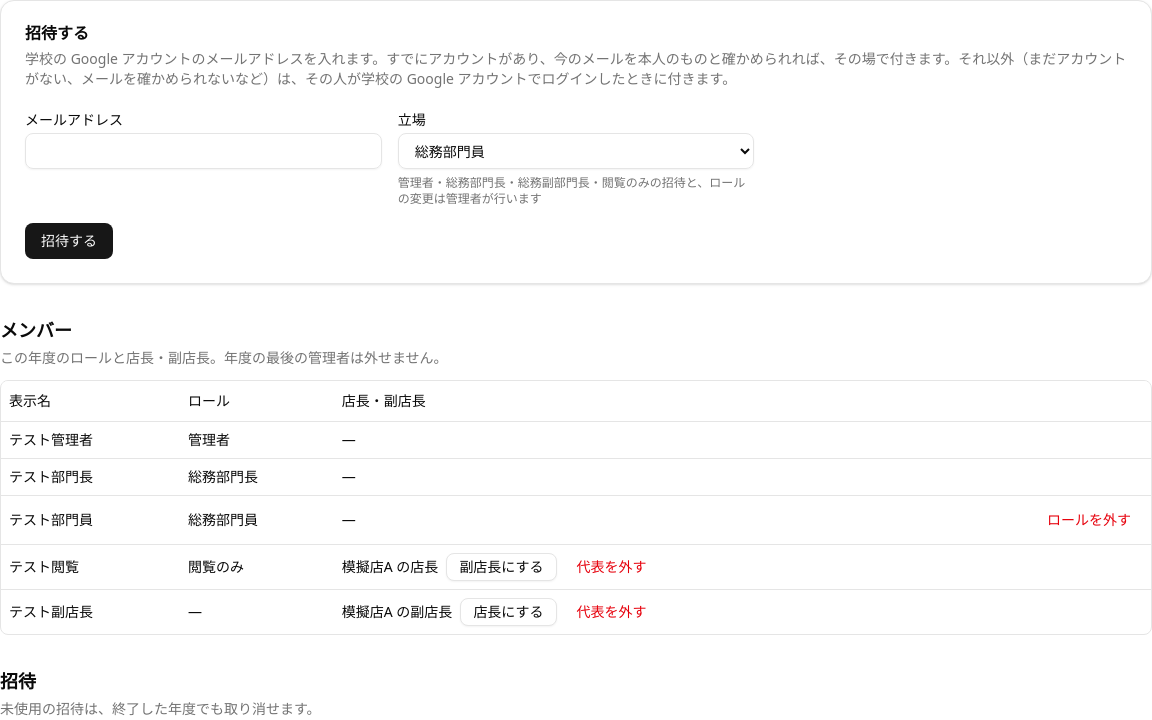
Test case: 招待の立場（段ごと。D-50） › 店長・副店長を選ぶと団体の欄が出て、送るのは団体と立場（ロールは送らない）。送った後も同じ立場と団体を残す
Expected: the form with test id "invite-form" is shown, 25,110 -> 754,259
Expected: the dropdown labelled "団体" is not shown
Select "副店長" in the dropdown labelled "立場" at {"x": 576, "y": 151}, box 398,133 -> 754,169
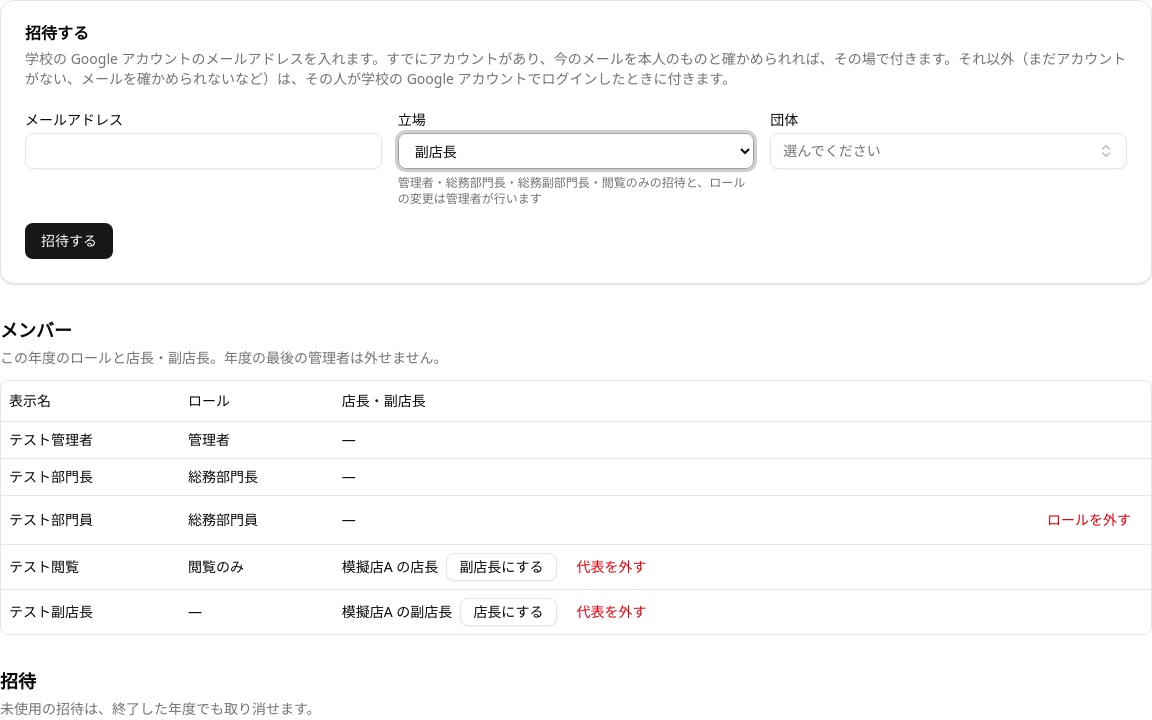
Click the dropdown named "団体".
click(832, 150)  # box 770,133 -> 1127,169
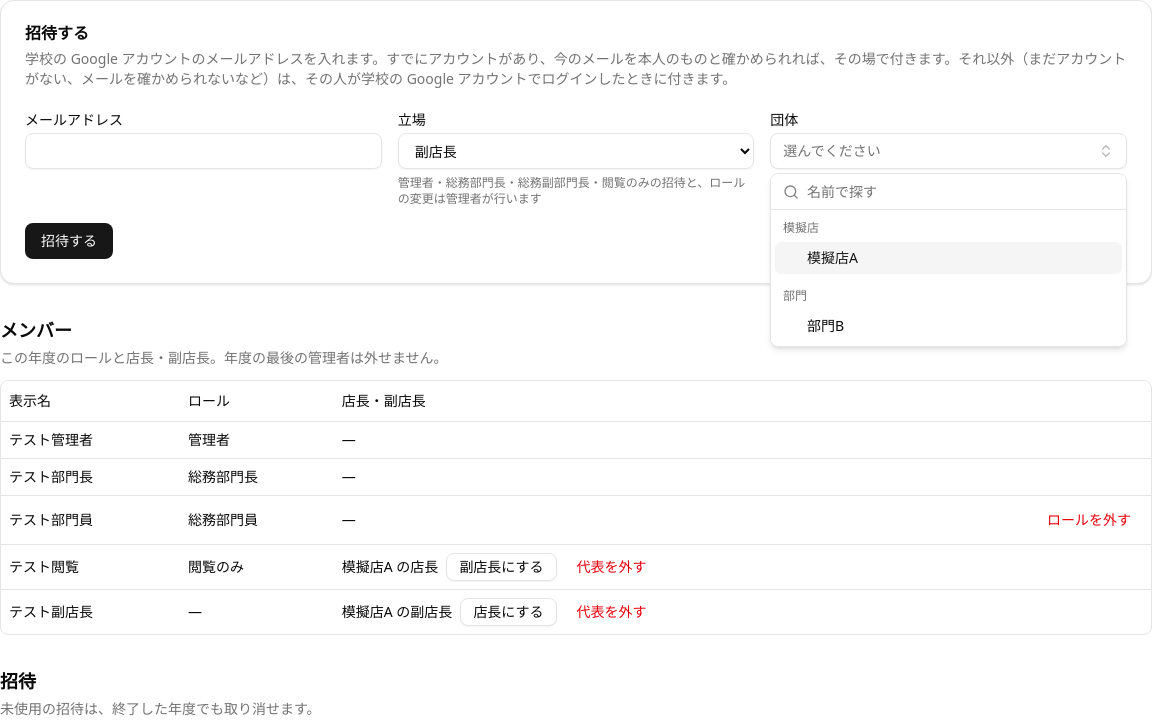
Click the option "模擬店A".
click(832, 258)  # box 775,242 -> 1122,274
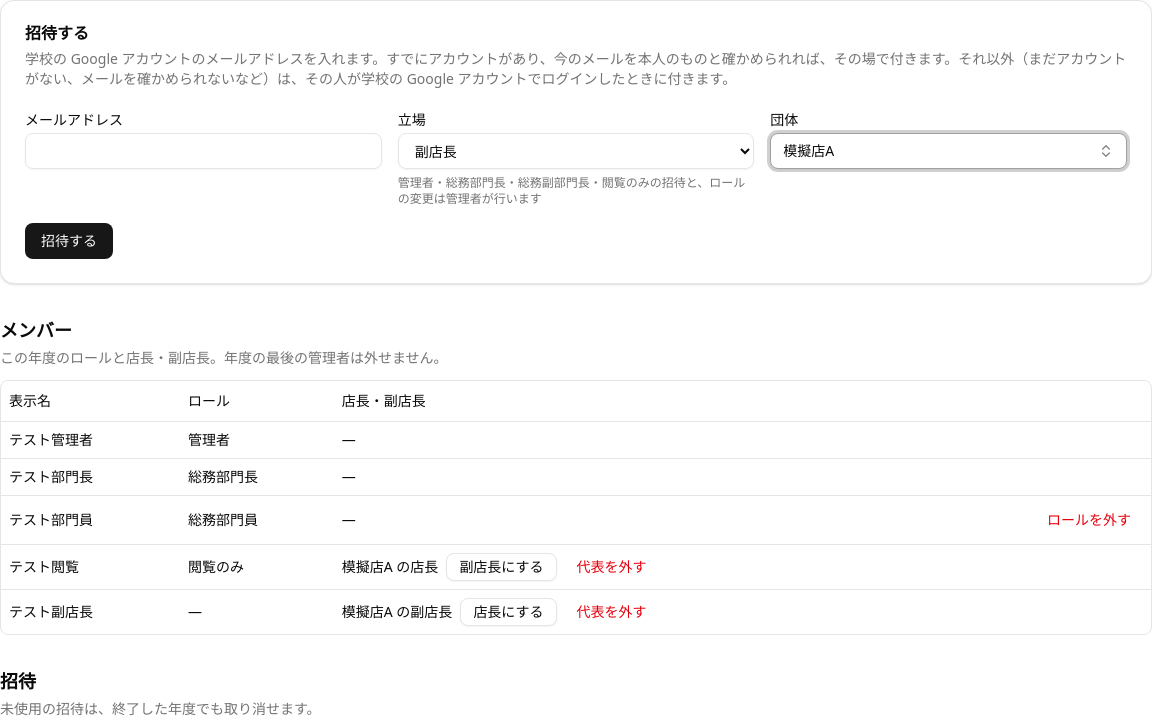
Type " New-Rep@Example.Test " into the field labelled "メールアドレス".
click(203, 151); type(" New-Rep@Example.Test ")  # box 25,133 -> 382,169
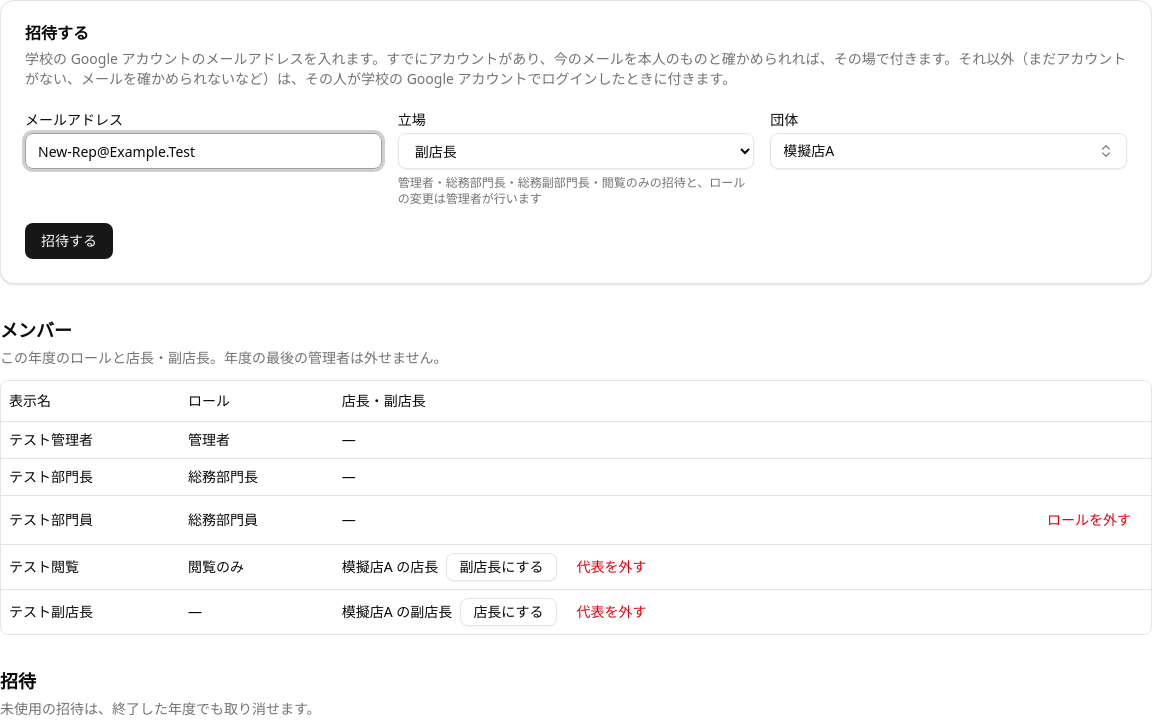
Click the button "招待する".
click(69, 241)  # box 25,223 -> 113,259
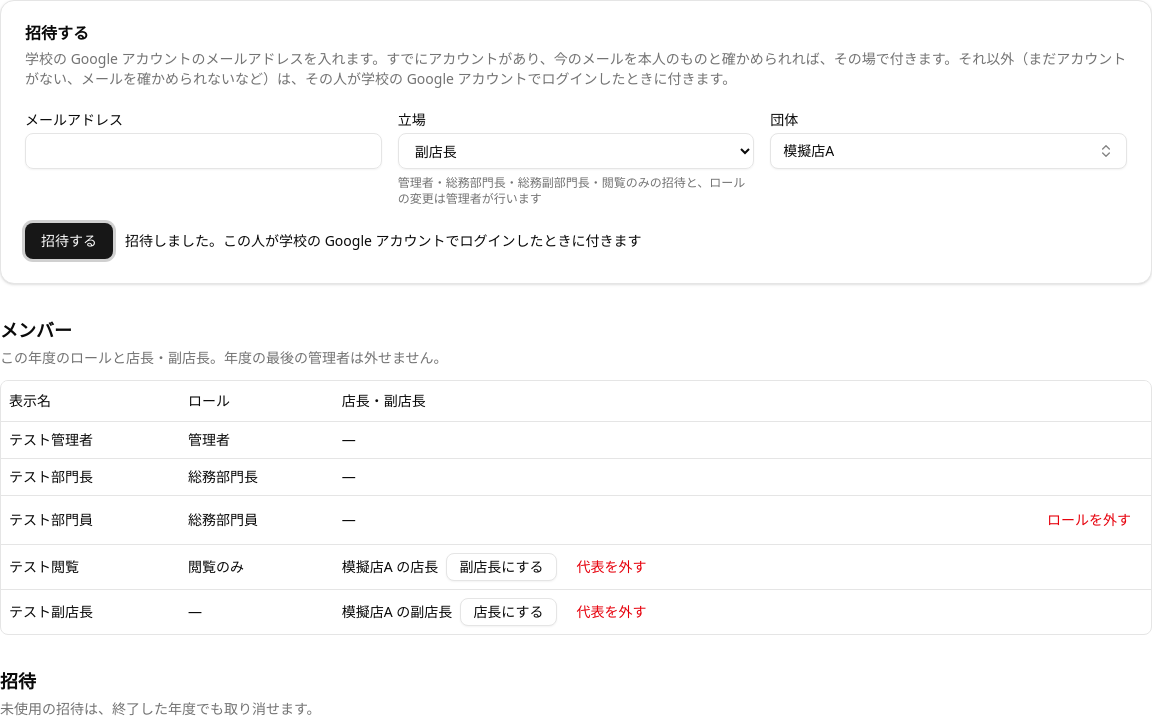
Expected: the dropdown named "団体" reads "模擬店A", 770,133 -> 1127,169
Expected: the message with test id "invite-result" reads "招待しました。この人が学校の Google アカウントでログインしたときに付きます", 125,231 -> 642,250
